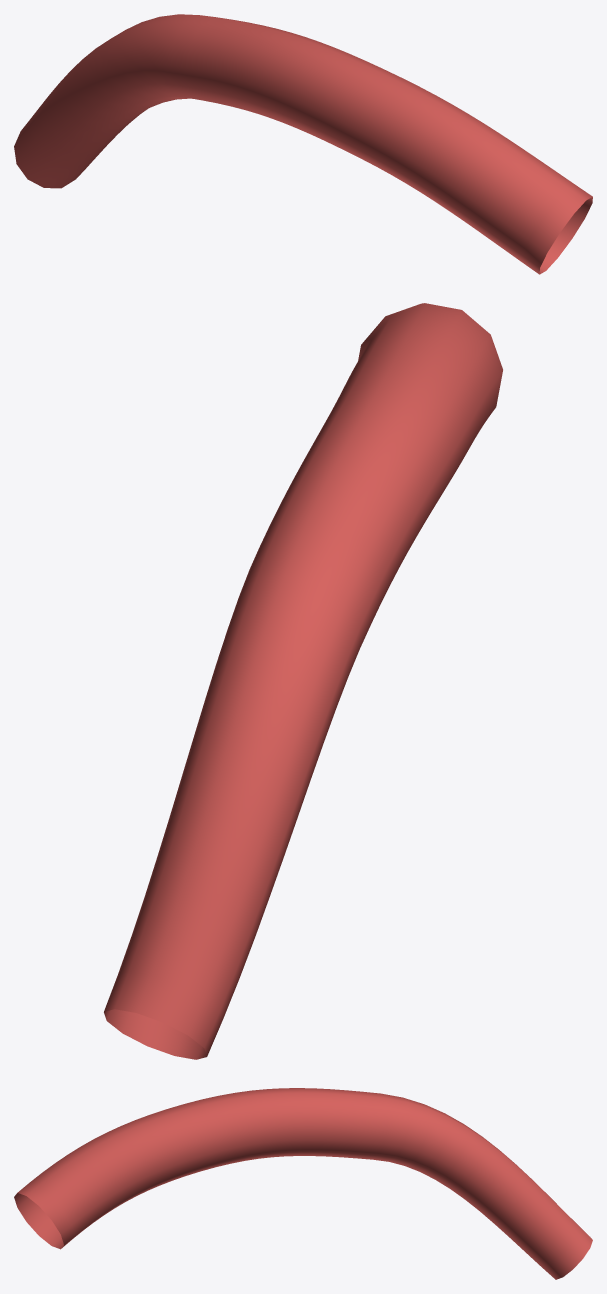
3 views of the same model, one above another, from view 1: azimuth 30°, elevation 25°; view 2: azimuth 150°, elevation 25°; view 3: azimuth 270°, elevation 25° (orthographic). The views are drawn at different scales.
Parts seen in each view (by area): view 1: 右侧髂外动脉; view 2: 右侧髂外动脉; view 3: 右侧髂外动脉.
Boxes of the visible parts, <box> form: 右侧髂外动脉: <box>14,14,592,274</box>; 右侧髂外动脉: <box>104,303,502,1059</box>; 右侧髂外动脉: <box>14,1088,592,1279</box>.
Size of the model in its own units: 0.0515 by 0.0551 by 0.1407.
